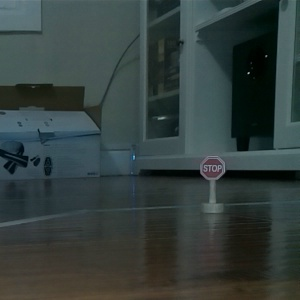stop sign: (196, 154, 227, 215)
